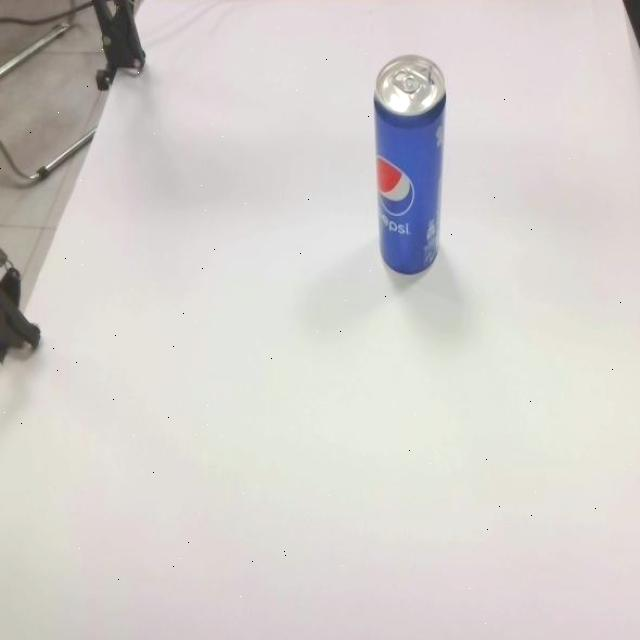debris: (373, 53, 448, 277)
